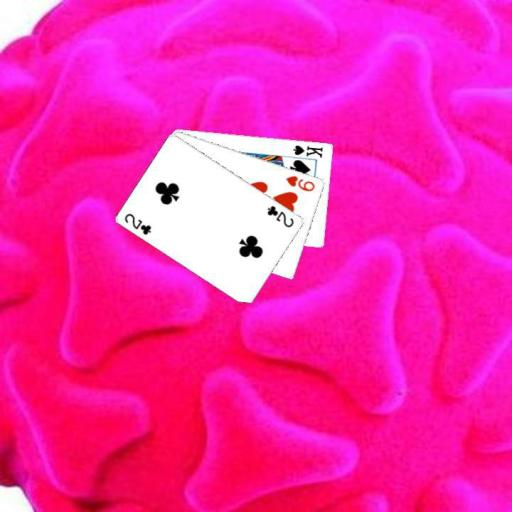2C: (264, 202, 296, 229), (121, 210, 153, 236)
9H: (283, 172, 316, 193)
KS: (290, 142, 325, 159)
